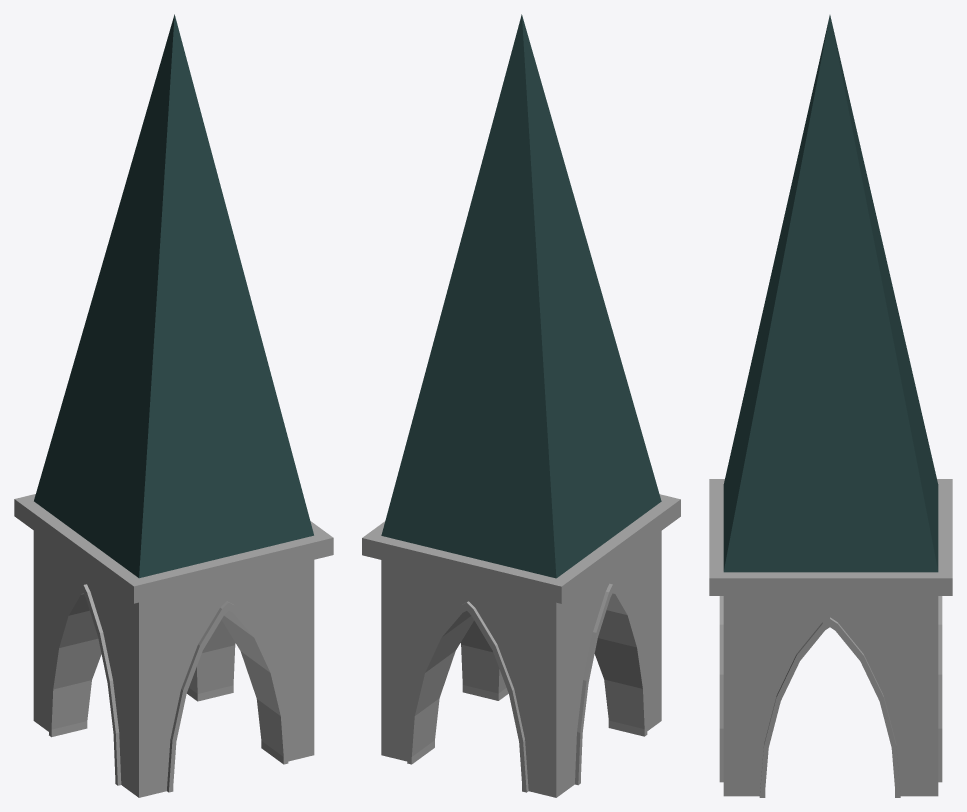
Rendered from Prop_Gothic_Building_Peak_Roof_Top_03.FBX.
3 renders of one model, left to right at view 1: azimuth 30°, elevation 25°; view 2: azimuth 150°, elevation 25°; view 3: azimuth 270°, elevation 25°, orthographic. The views are drawn at different scales.
Parts seen in each view (by area): view 1: Prop_Gothic_Building_Peak_Roof_Top_03; view 2: Prop_Gothic_Building_Peak_Roof_Top_03; view 3: Prop_Gothic_Building_Peak_Roof_Top_03.
Boxes of the visible parts, box(x1,y1,x2,y2) form: Prop_Gothic_Building_Peak_Roof_Top_03: box(14, 14, 333, 797); Prop_Gothic_Building_Peak_Roof_Top_03: box(362, 14, 680, 797); Prop_Gothic_Building_Peak_Roof_Top_03: box(709, 15, 952, 797).
Size of the model in its own units: 1033 by 3581 by 1070.
